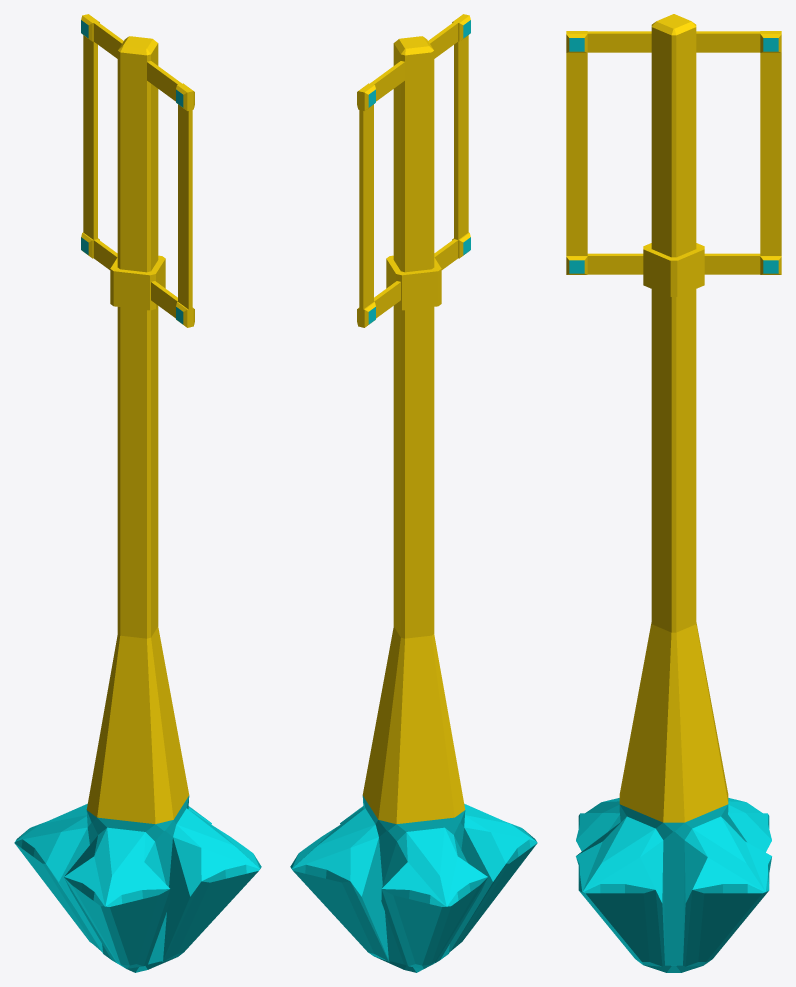
File: Key.glb
3 renders of one model, left to right at view 1: azimuth 30°, elevation 25°; view 2: azimuth 150°, elevation 25°; view 3: azimuth 270°, elevation 25°, orthographic. The views are drawn at different scales.
Parts seen in each view (by area): view 1: Cube; view 2: Cube; view 3: Cube.
Part boxes in pixels (left/top/right/bottom): Cube: left=14, top=14, right=261, bottom=972; Cube: left=290, top=14, right=537, bottom=972; Cube: left=566, top=14, right=781, bottom=972.
Size of the model in its own units: 1.81 by 9.65 by 1.99.
